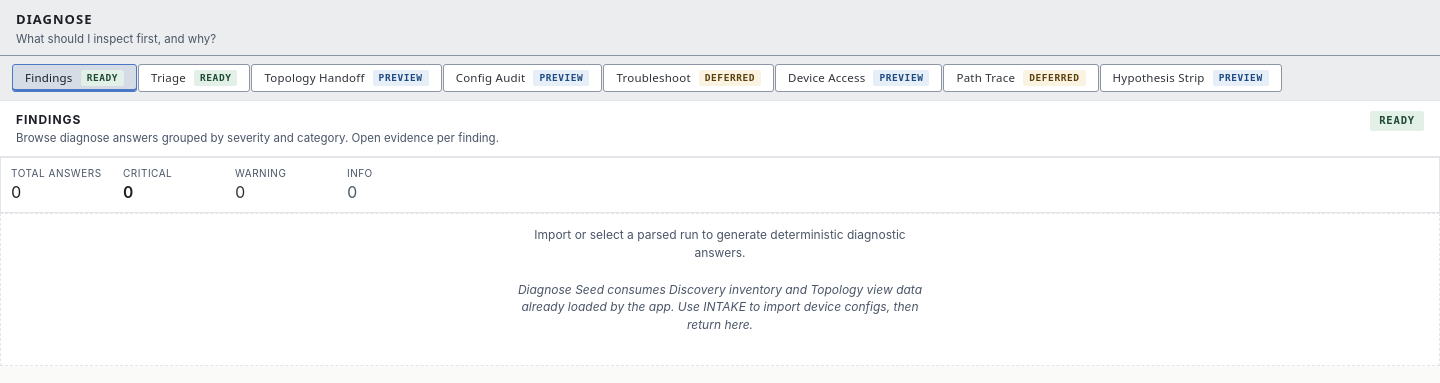
Test case: DiagnoseMode — ModeWorkbenchShell integration › device_access status is preview and reason mentions no terminal
Click the tab with test id "mwb-tool-device_access" at (859, 78), box [775,64,942,92]
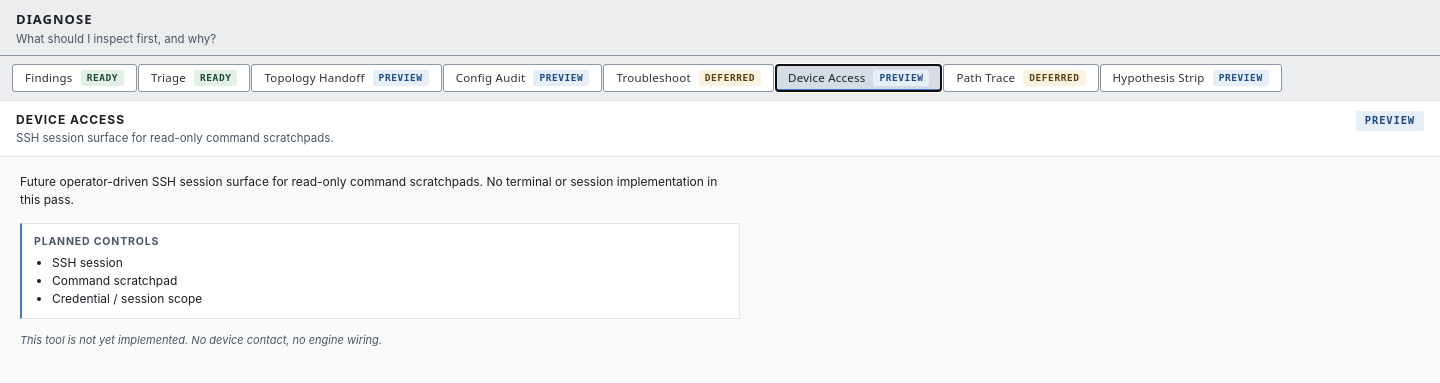
Result: the text "No terminal" is shown at [20,174,717,207]
